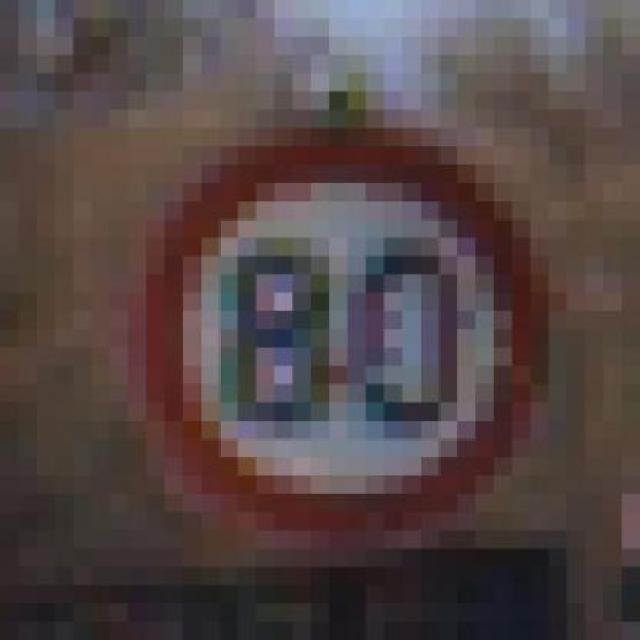forb_speed_over_80: (167, 146, 528, 520)
